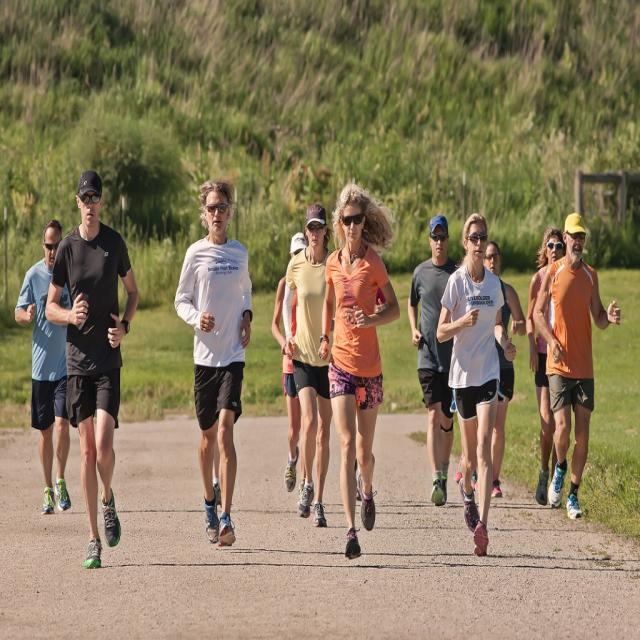body: (41, 166, 140, 572), (315, 179, 402, 562), (172, 176, 254, 552), (433, 211, 519, 558), (531, 209, 622, 522), (324, 205, 394, 504), (281, 200, 338, 530), (12, 218, 74, 516), (407, 213, 461, 506), (472, 237, 527, 500), (524, 225, 568, 508), (270, 230, 309, 501), (449, 387, 479, 495)
